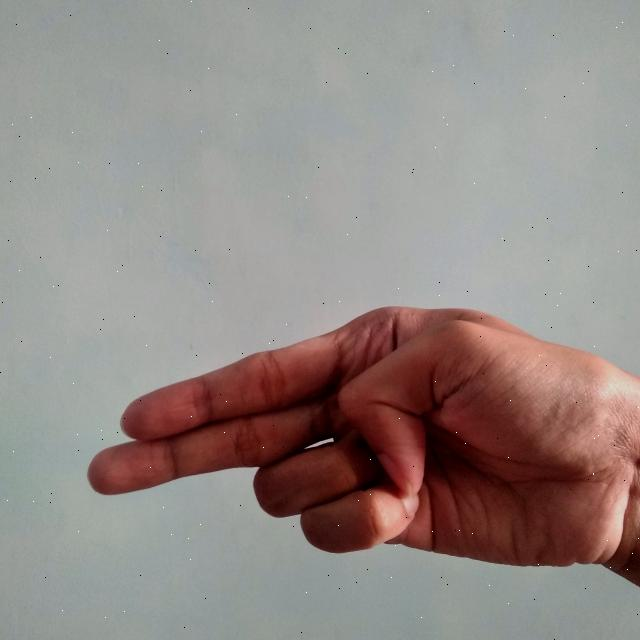H: (85, 296, 640, 590), (87, 302, 640, 593)
